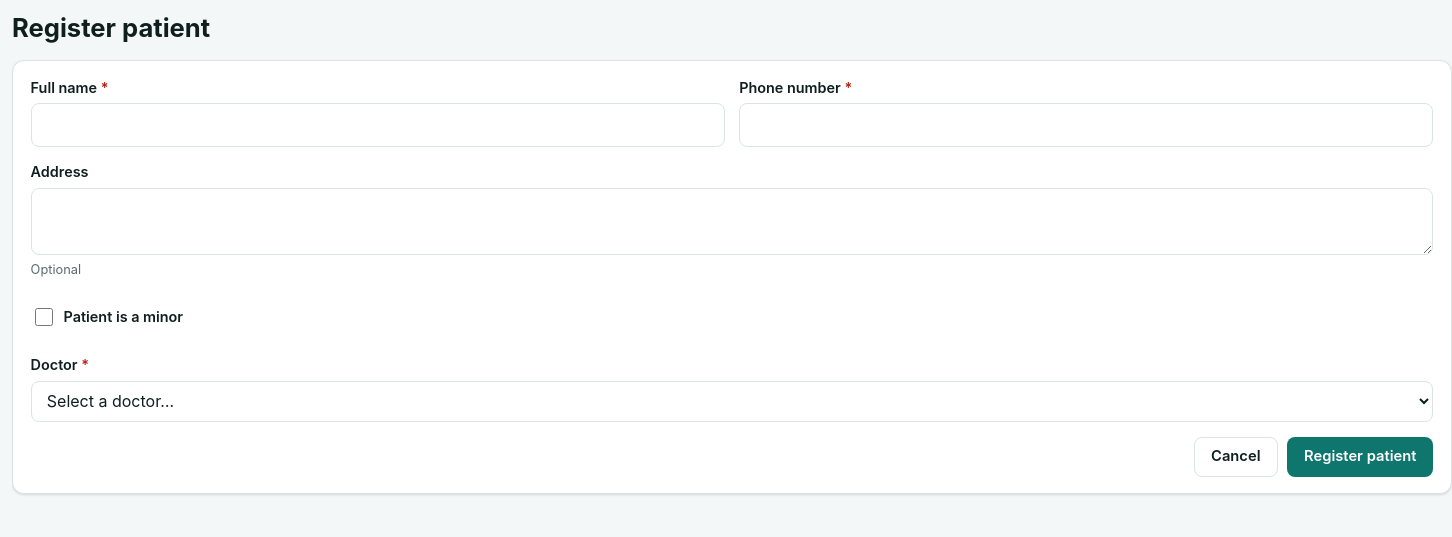
Test case: patient registration (PATIENT-001..003) › requires choosing a doctor when several are permitted
In the field labelled "Full name *": (378, 125) [31, 103, 725, 147], type "Mona"
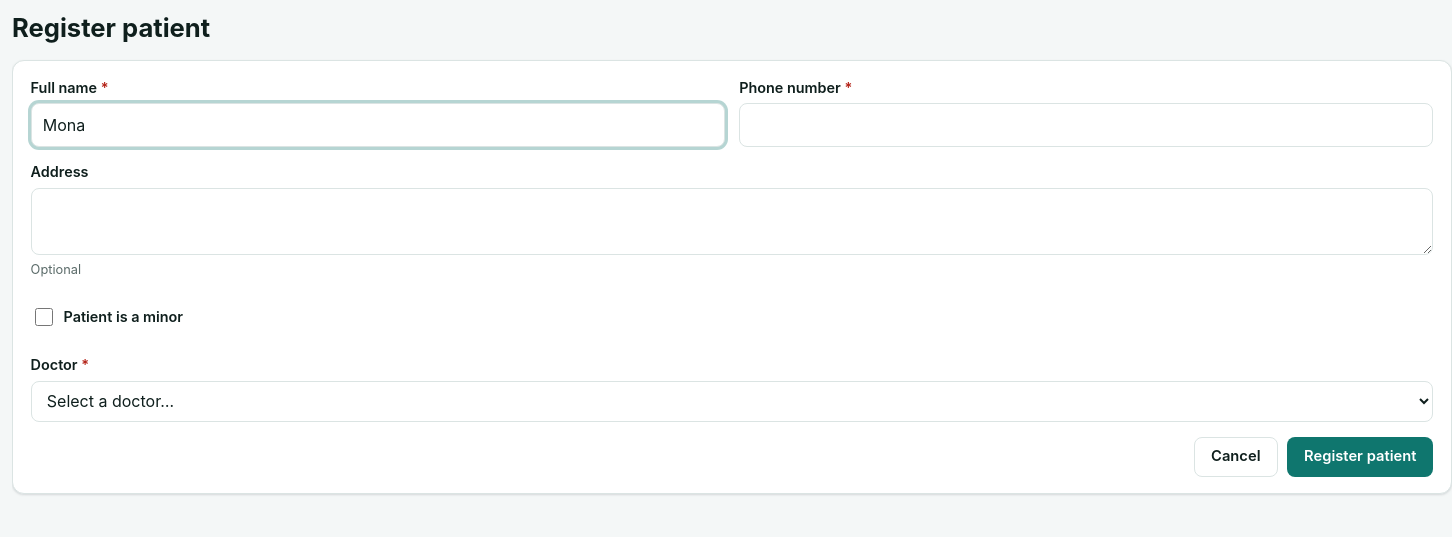
In the field labelled "Phone number *": (1086, 125) [739, 103, 1433, 147], type "0122"
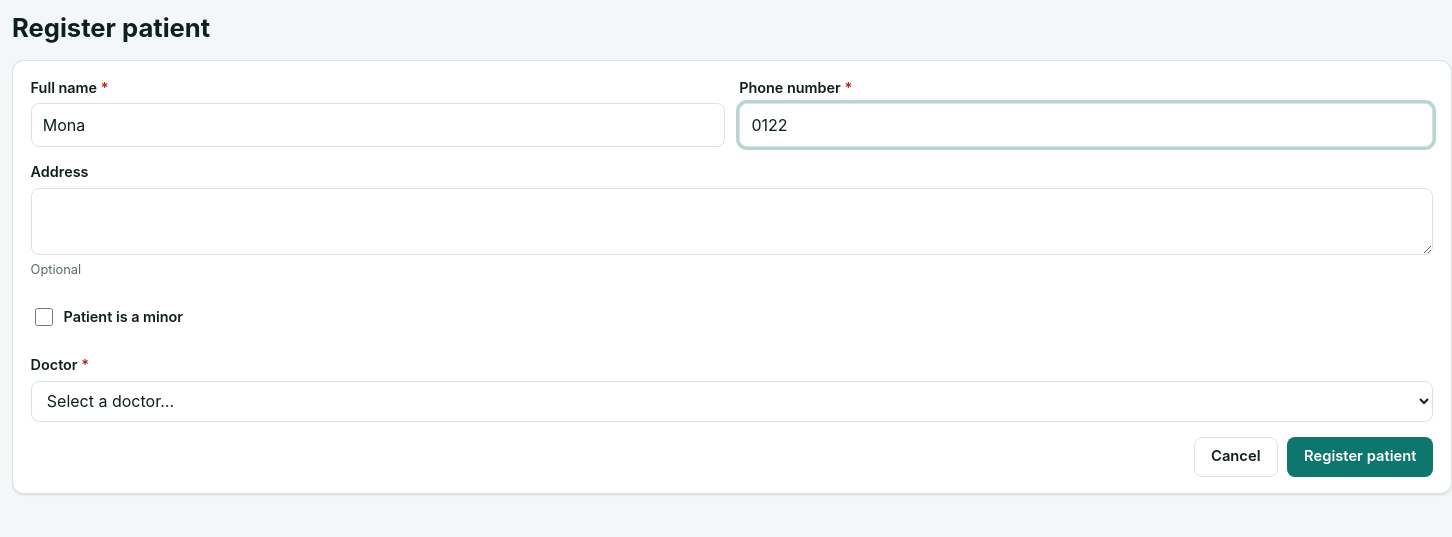
Click the button "Register patient": (1360, 456) [1287, 436, 1433, 476]
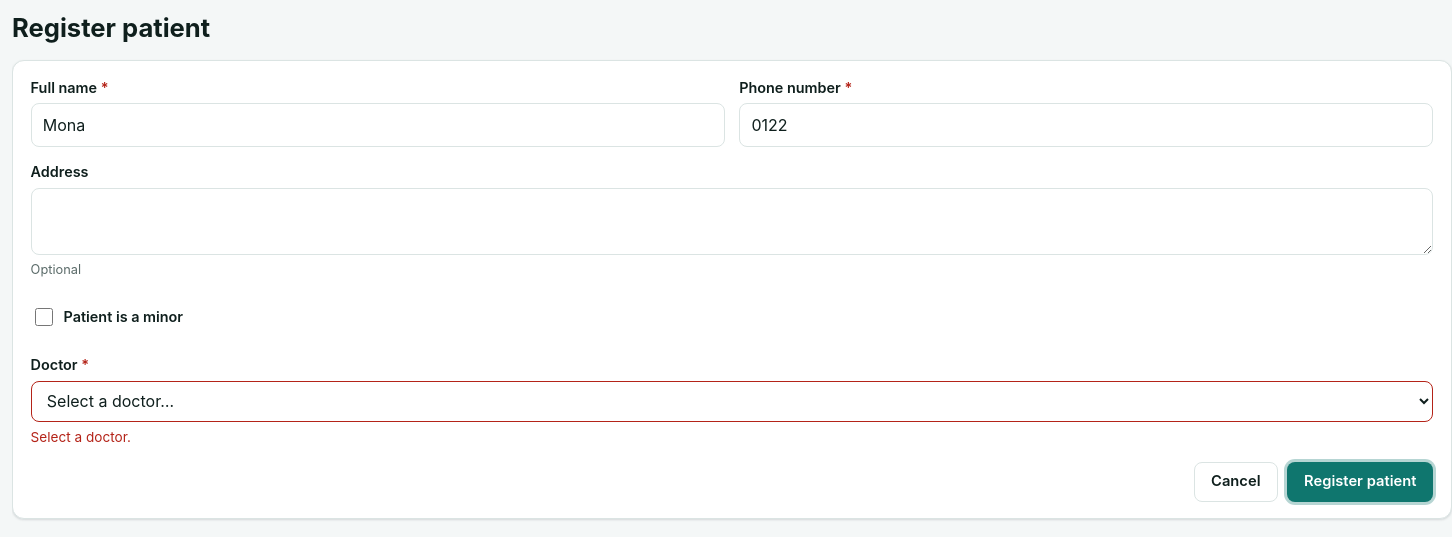
Result: the text "Select a doctor." is shown at [31, 429, 131, 445]
